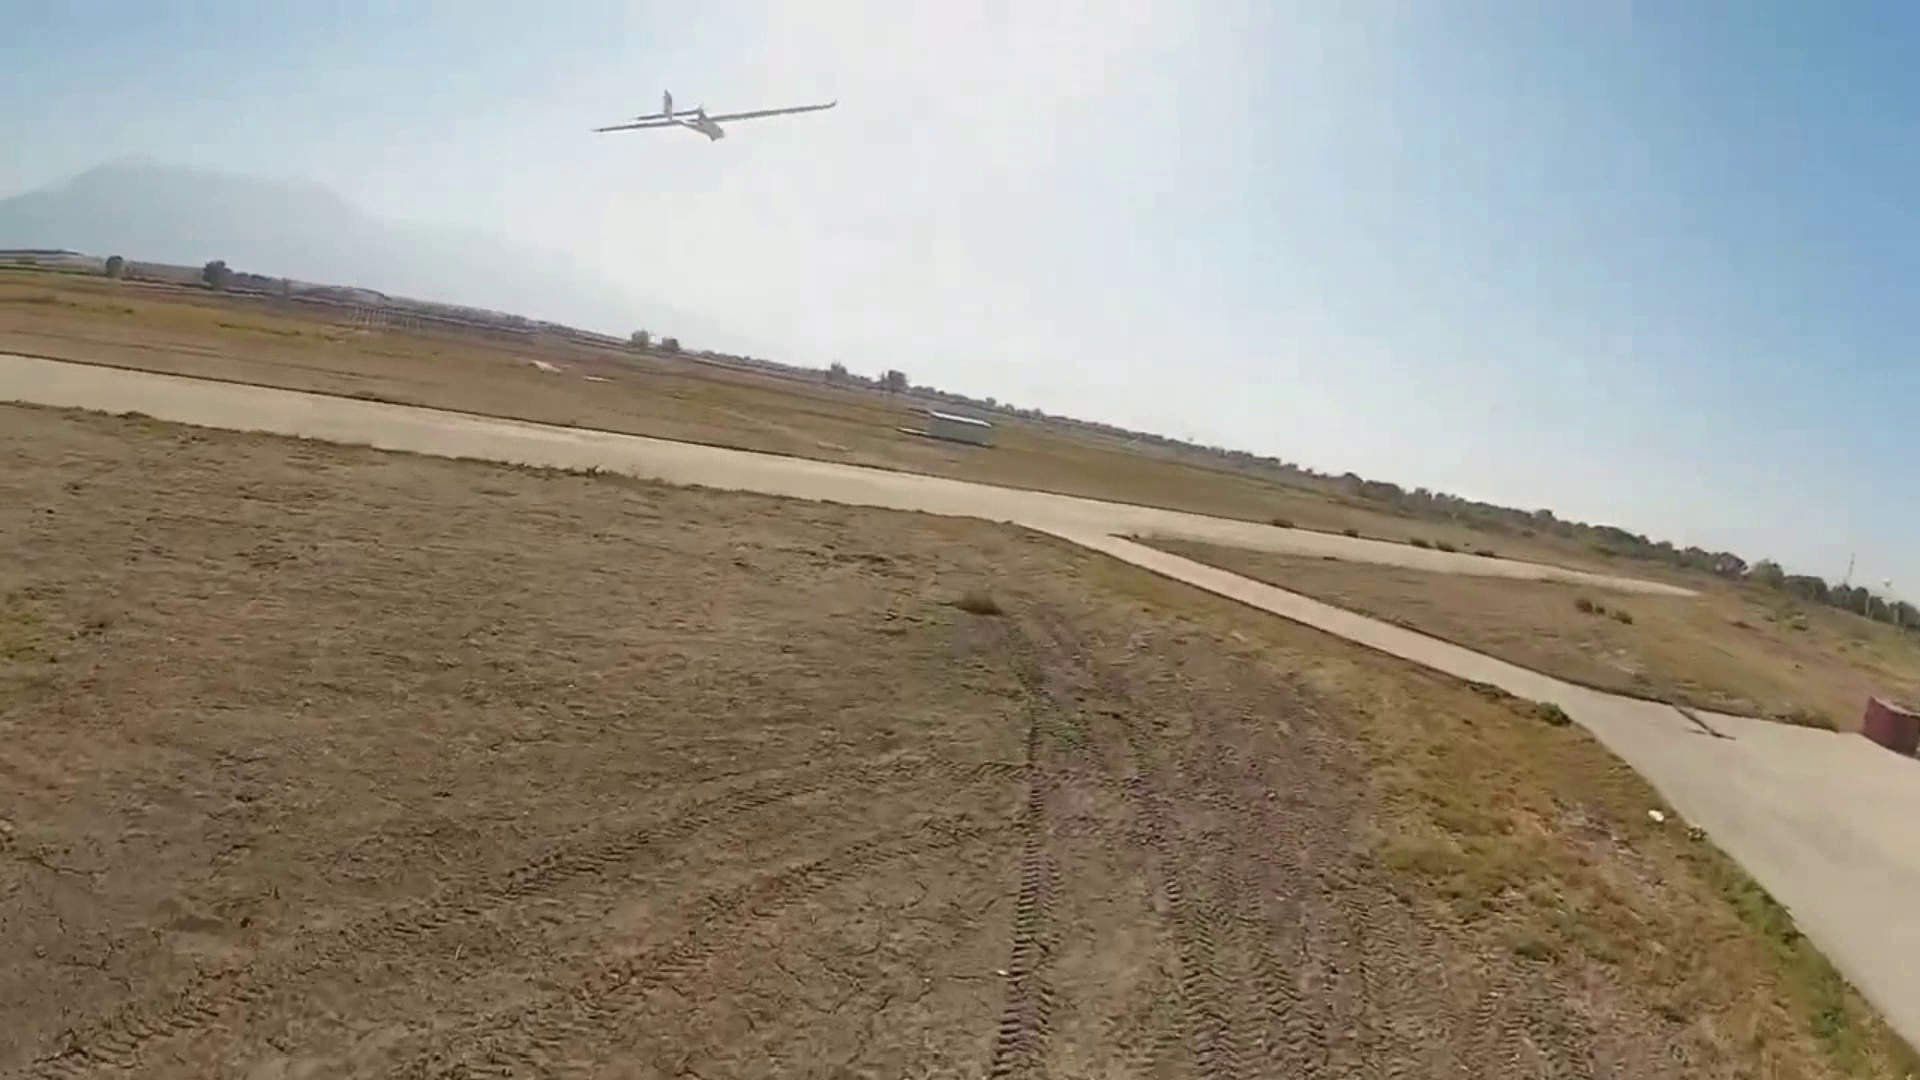airplane: (589, 87, 840, 141)
